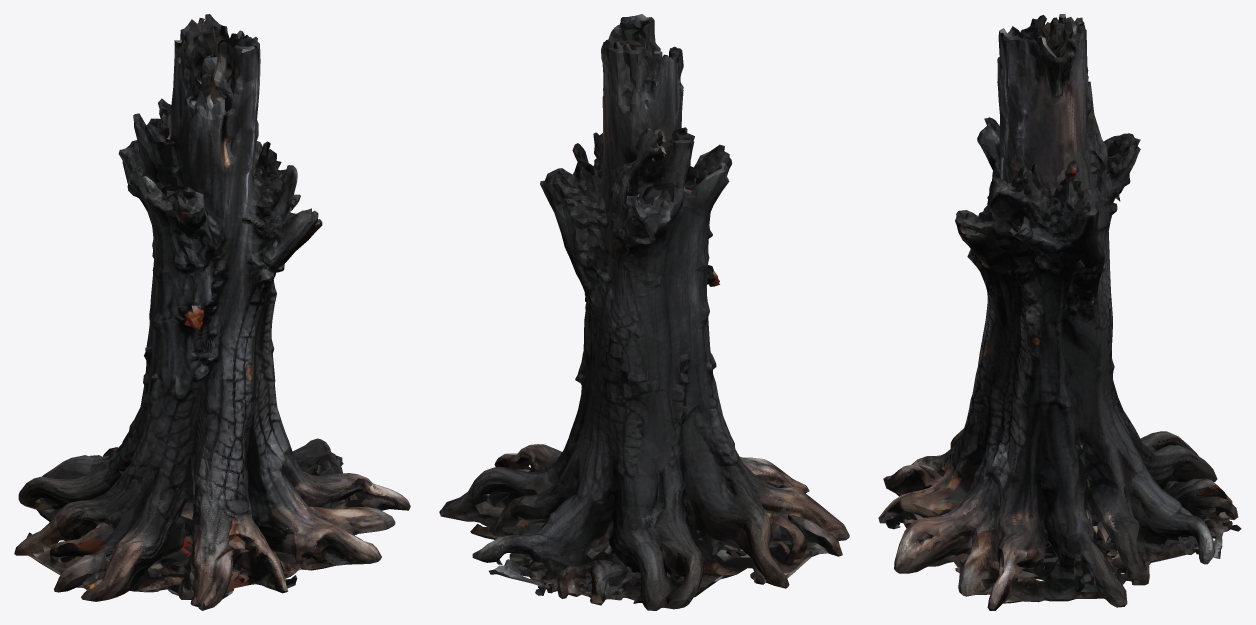
The model's file is traveler_env_coast_shadowlands_burnt_stump_00001_.glb.
3 renders of one model, left to right at view 1: azimuth 30°, elevation 25°; view 2: azimuth 150°, elevation 25°; view 3: azimuth 270°, elevation 25°, orthographic. The views are drawn at different scales.
Visible parts, largest first — view 1: temp_mesh.ply; view 2: temp_mesh.ply; view 3: temp_mesh.ply.
Boxes of the visible parts, x1,y1,x2,y2 form: temp_mesh.ply: (14,14,410,610); temp_mesh.ply: (439,14,849,610); temp_mesh.ply: (878,14,1241,610).
Size of the model in its own units: 1.45 by 1.97 by 1.27.
1 material, 1 textured.
